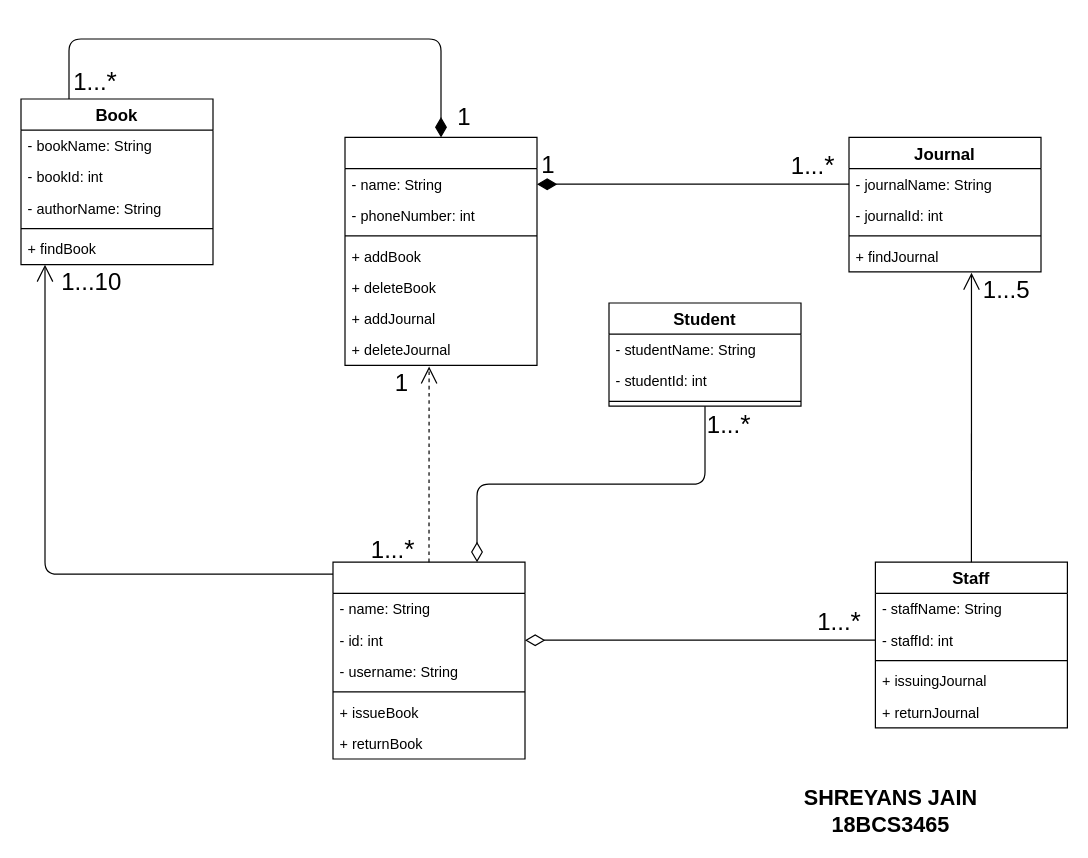
Image size: 1088x858. Some labels were removed from this diagram. The shapes that lost their labels are listed below. From the top down, each one's box as (x1, y1, x2, y2) in pixels, then its label:
(344, 136, 537, 365): Library
(332, 561, 525, 759): Library Member
